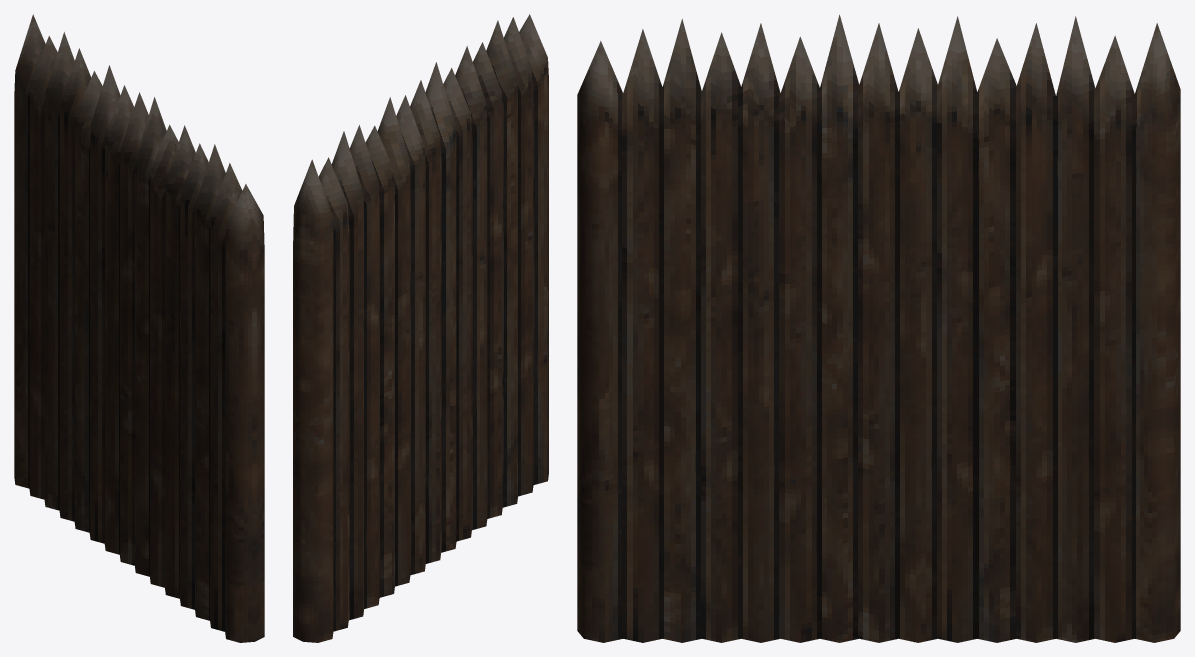
The model's file is oga_palisade.glb.
3 renders of one model, left to right at view 1: azimuth 30°, elevation 25°; view 2: azimuth 150°, elevation 25°; view 3: azimuth 270°, elevation 25°, orthographic. The views are drawn at different scales.
Parts seen in each view (by area): view 1: oga_palisade; view 2: oga_palisade; view 3: oga_palisade.
Part boxes in pixels (left/top/right/bottom): oga_palisade: left=14, top=14, right=264, bottom=642; oga_palisade: left=293, top=14, right=548, bottom=642; oga_palisade: left=577, top=14, right=1180, bottom=642.
Bounding box in the file's own units: 0.2503 × 3 × 2.66.
Materials: 1 (1 with a texture image).
